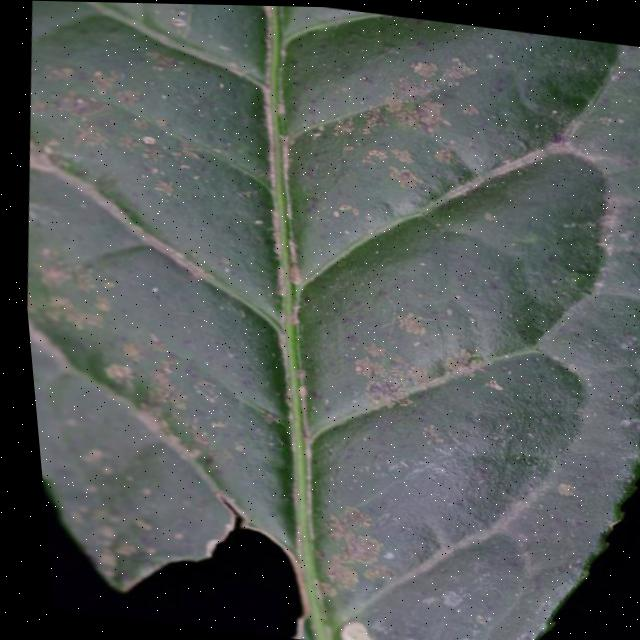Tea algae leaf spot: (42, 3, 591, 619)
